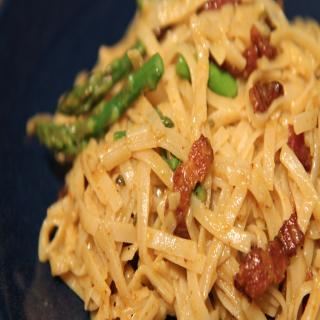Pasta: (38, 0, 320, 319)
